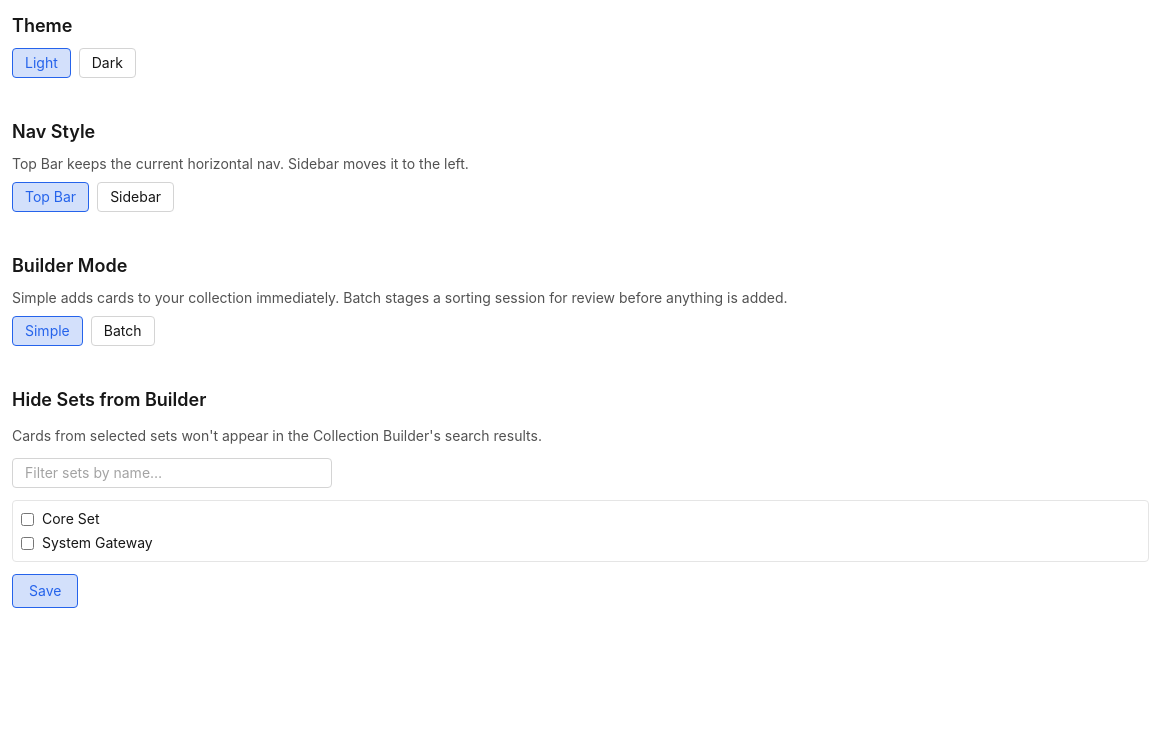
Test: SettingsForm › shows an error message when saving fails
The width and height of the screenshot is (1164, 732).
What coordinates should you click on to do the following:
click the button "Save"
I would click on:
 (45, 591)
Its box is top-left (12, 574), bottom-right (78, 608).
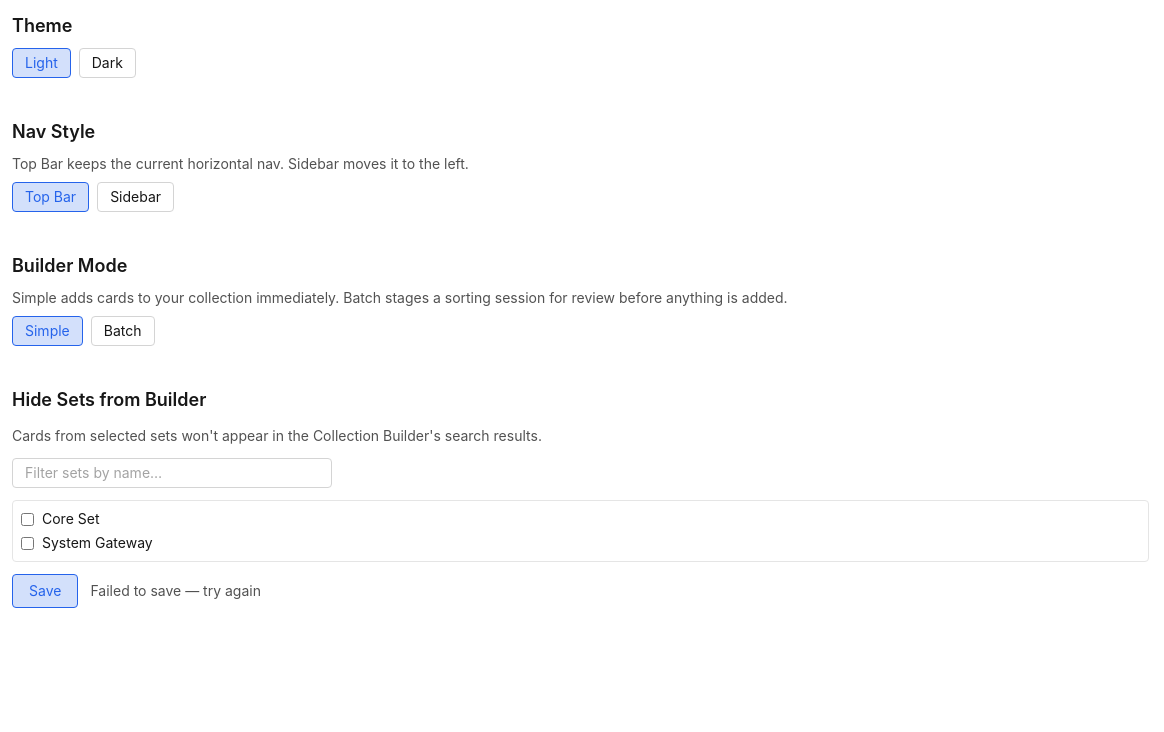
Expected: the text "Failed to save — try again" is shown, top-left (90, 581), bottom-right (261, 601)
